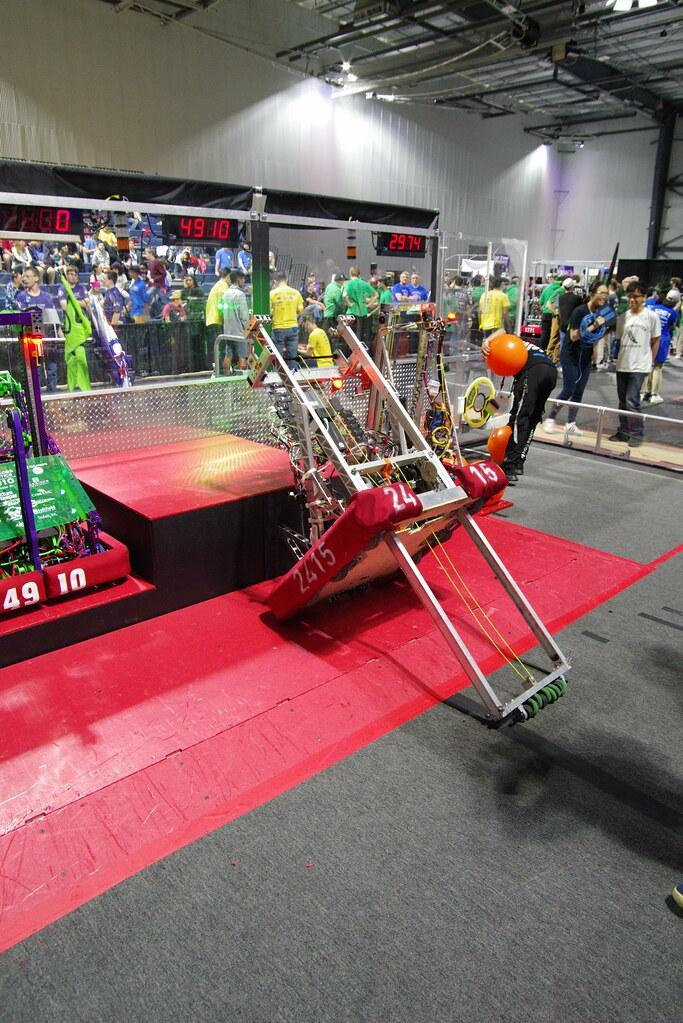robot: (229, 306, 581, 737), (0, 281, 139, 620)
